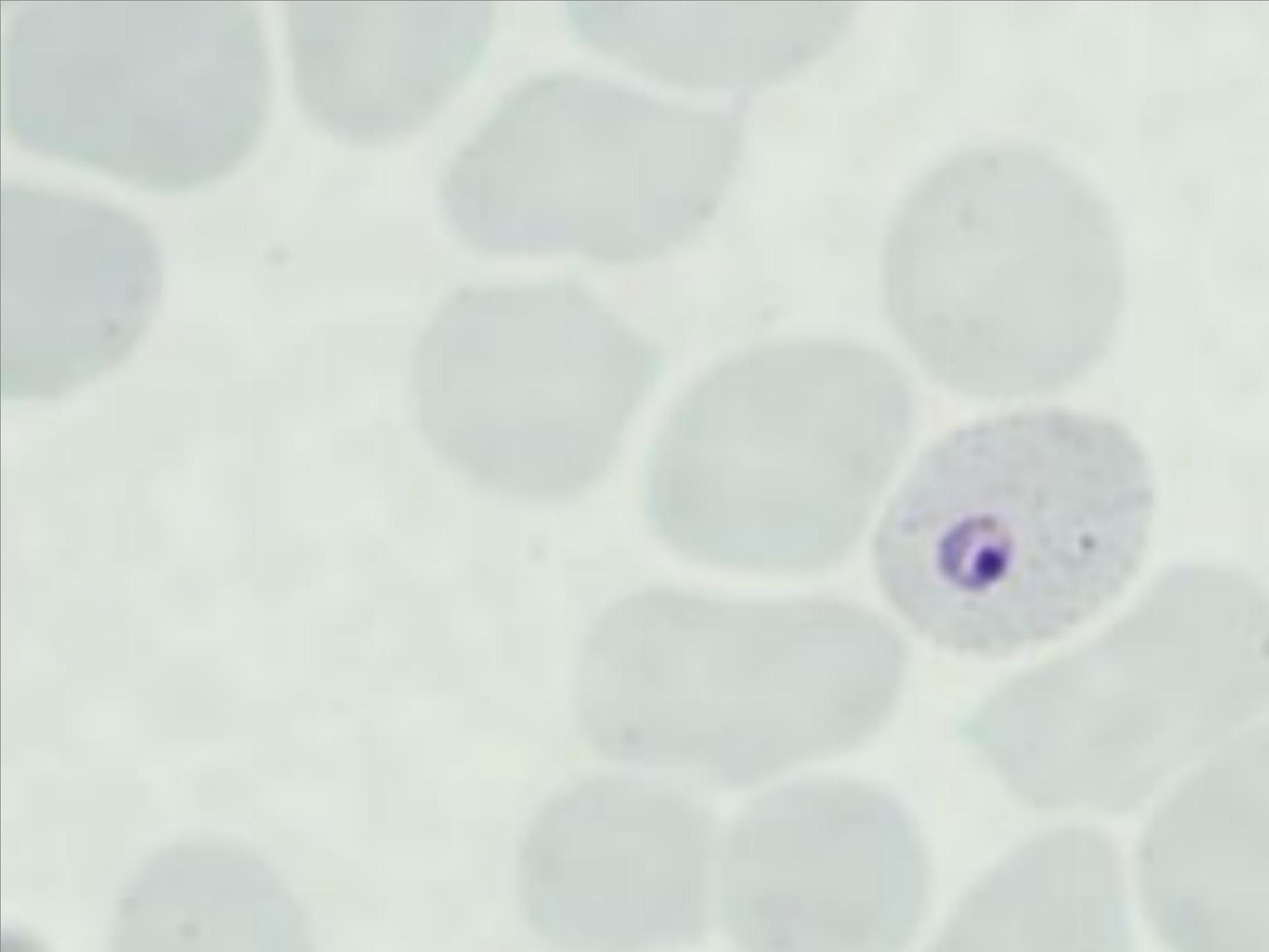Infected: (872, 407, 1151, 654)
Uninfected: (978, 559, 1269, 812), (570, 585, 909, 783), (639, 339, 913, 575), (881, 142, 1130, 399), (438, 70, 744, 261), (411, 281, 658, 501), (2, 0, 269, 190), (714, 775, 934, 952), (522, 774, 722, 952), (0, 187, 155, 401), (286, 0, 495, 141)
